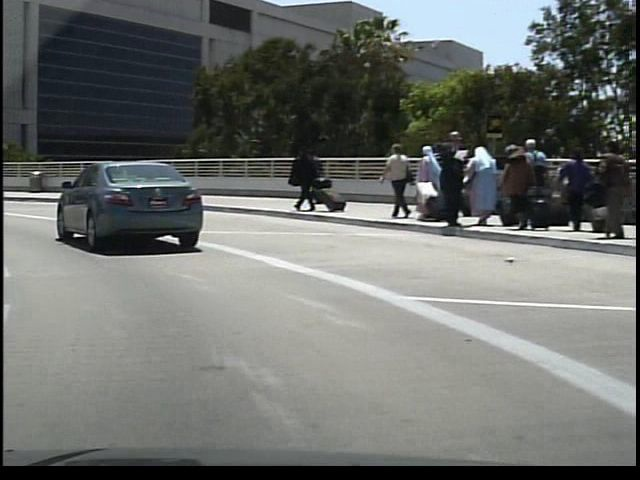person: (431, 126, 469, 231), (377, 140, 412, 220), (284, 142, 318, 213), (305, 152, 324, 206)
